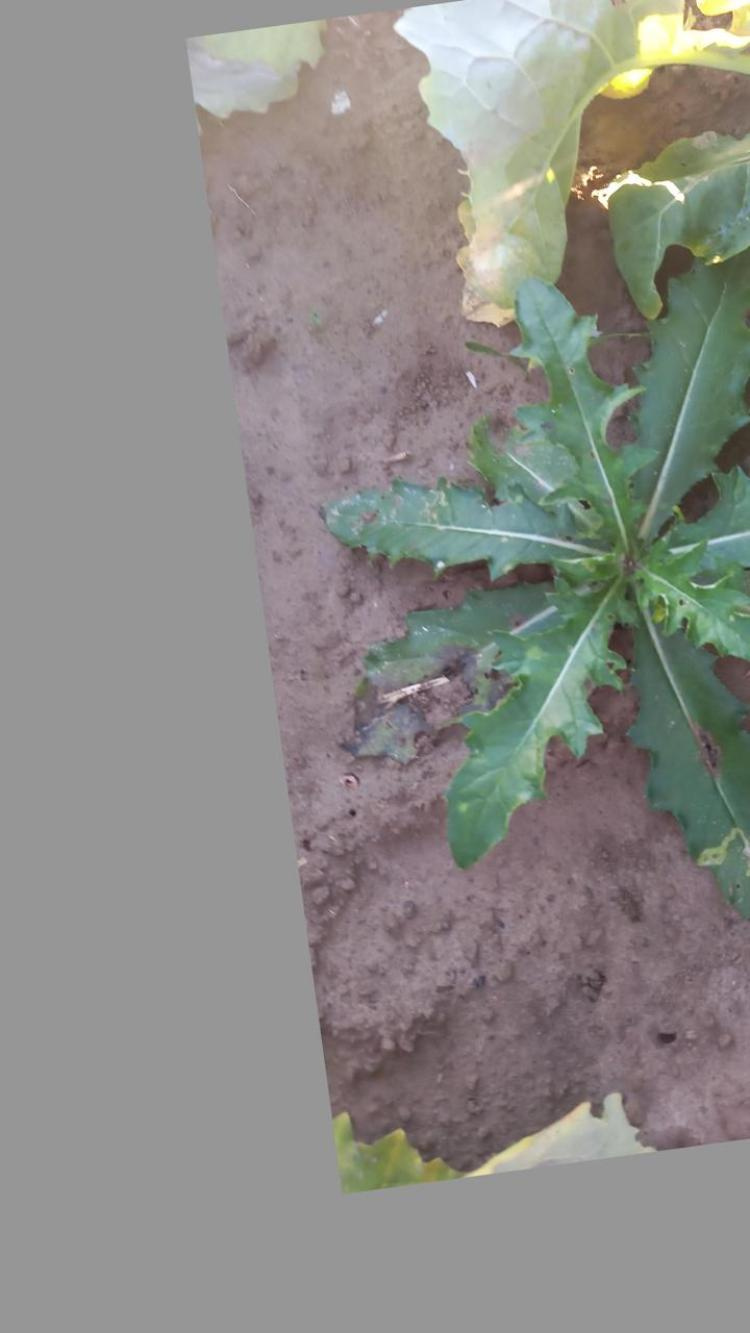bodyak: (323, 269, 750, 931)
